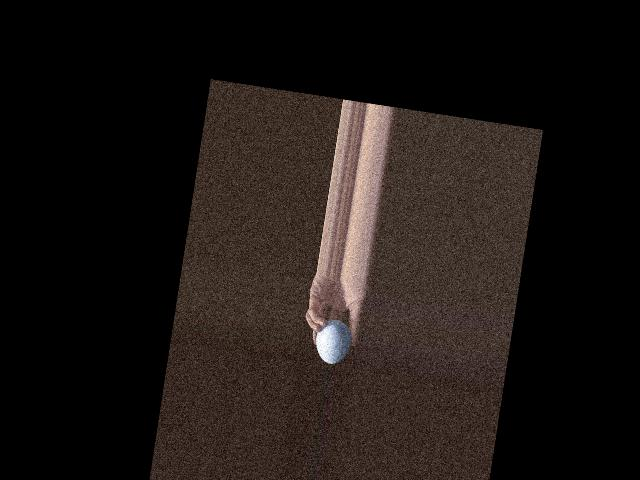egg: (311, 317, 353, 366)
